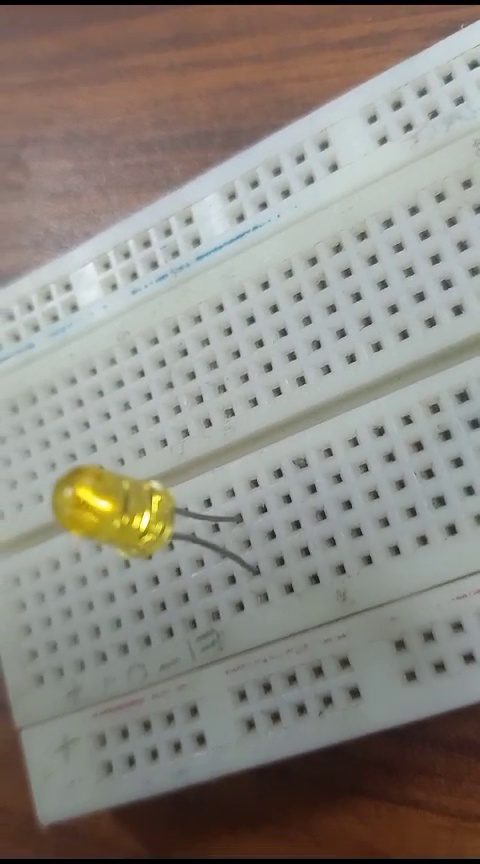LED: (48, 453, 250, 591)
